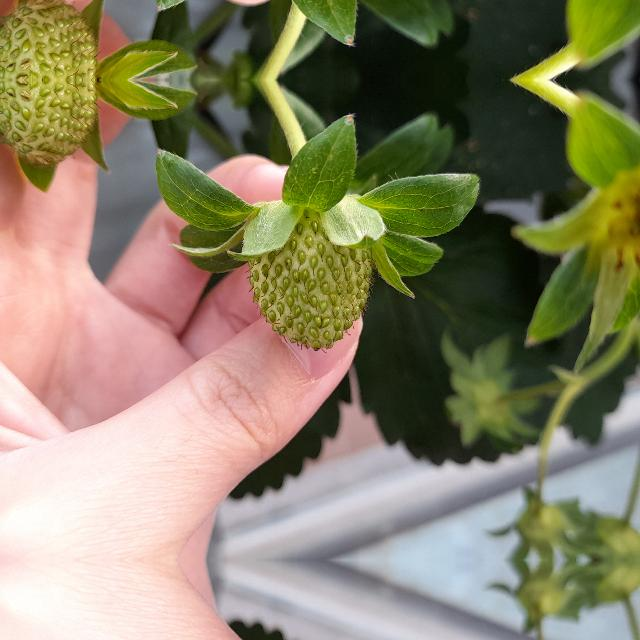Health_25: (244, 207, 376, 353)
